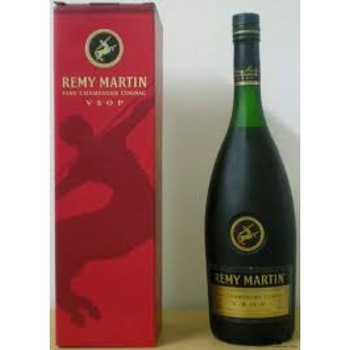Remy Martin: (193, 8, 301, 349)
